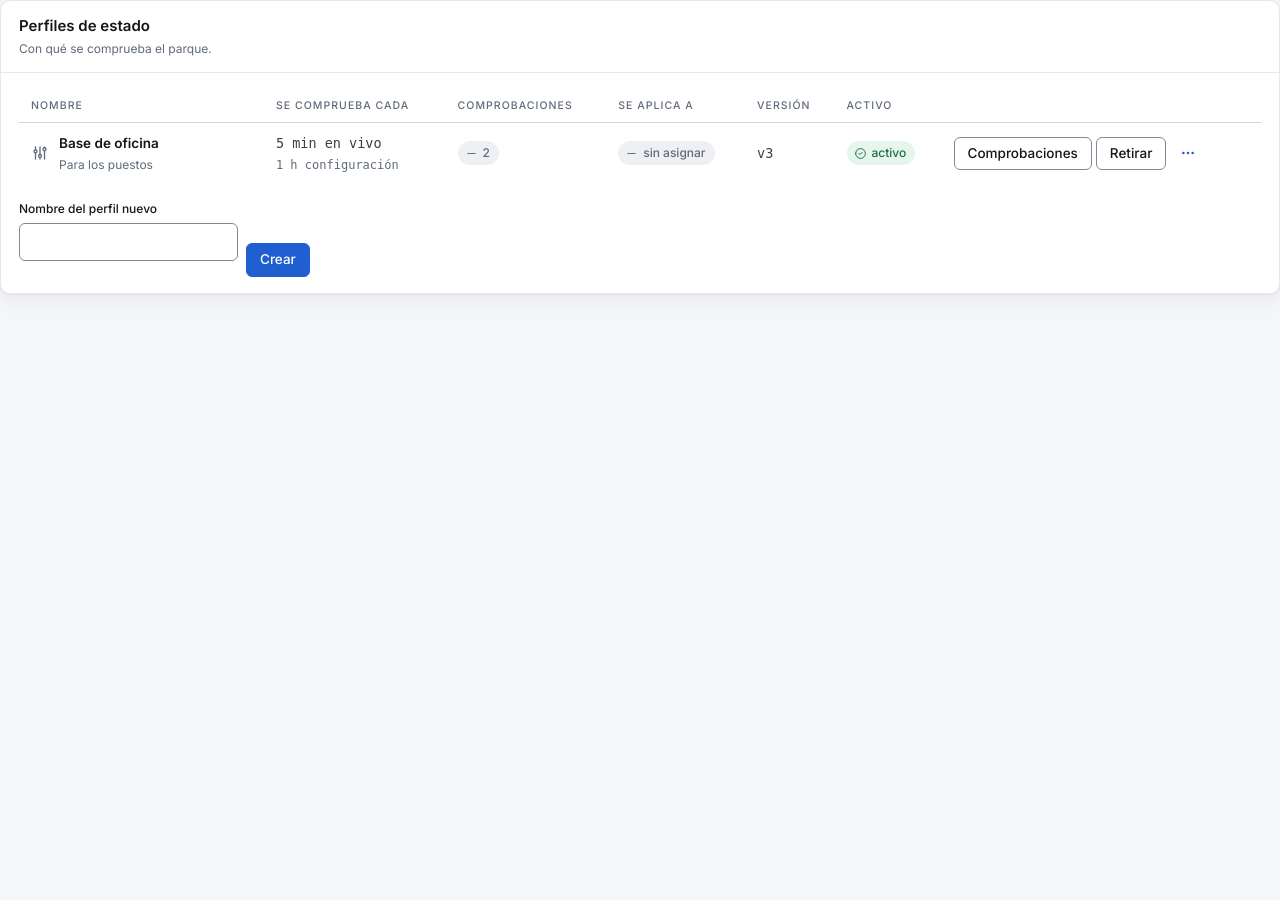
Test: the profile list, in Spanish › asks before deleting, naming what it costs
Expected: the text "Base de oficina" is shown, [59, 135, 159, 151]
Click the button named "Más acciones para Base de oficina". click: point(1188, 153)
box: [1170, 135, 1206, 171]
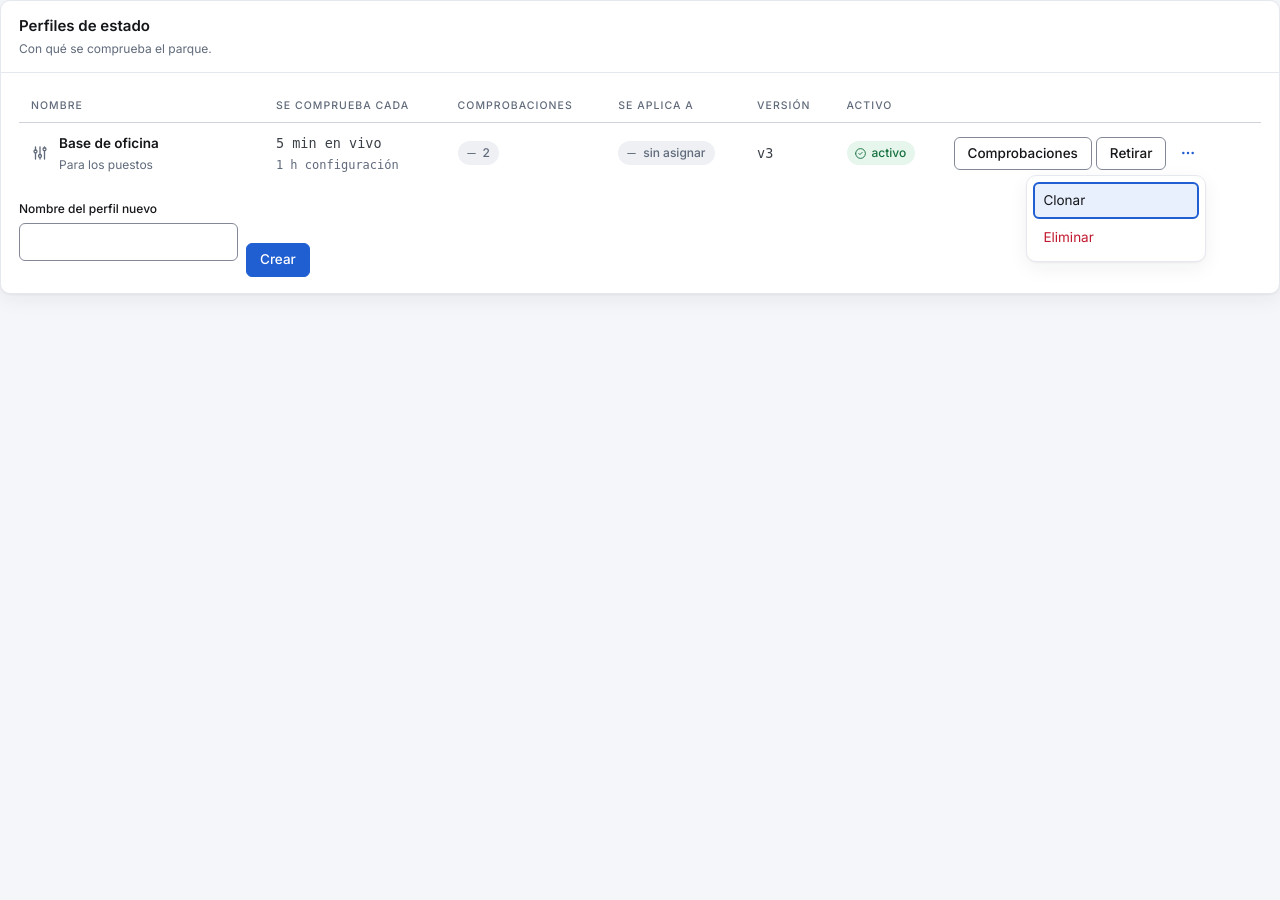
Click the menu item "Eliminar". click: point(1116, 237)
box: [1033, 219, 1199, 255]
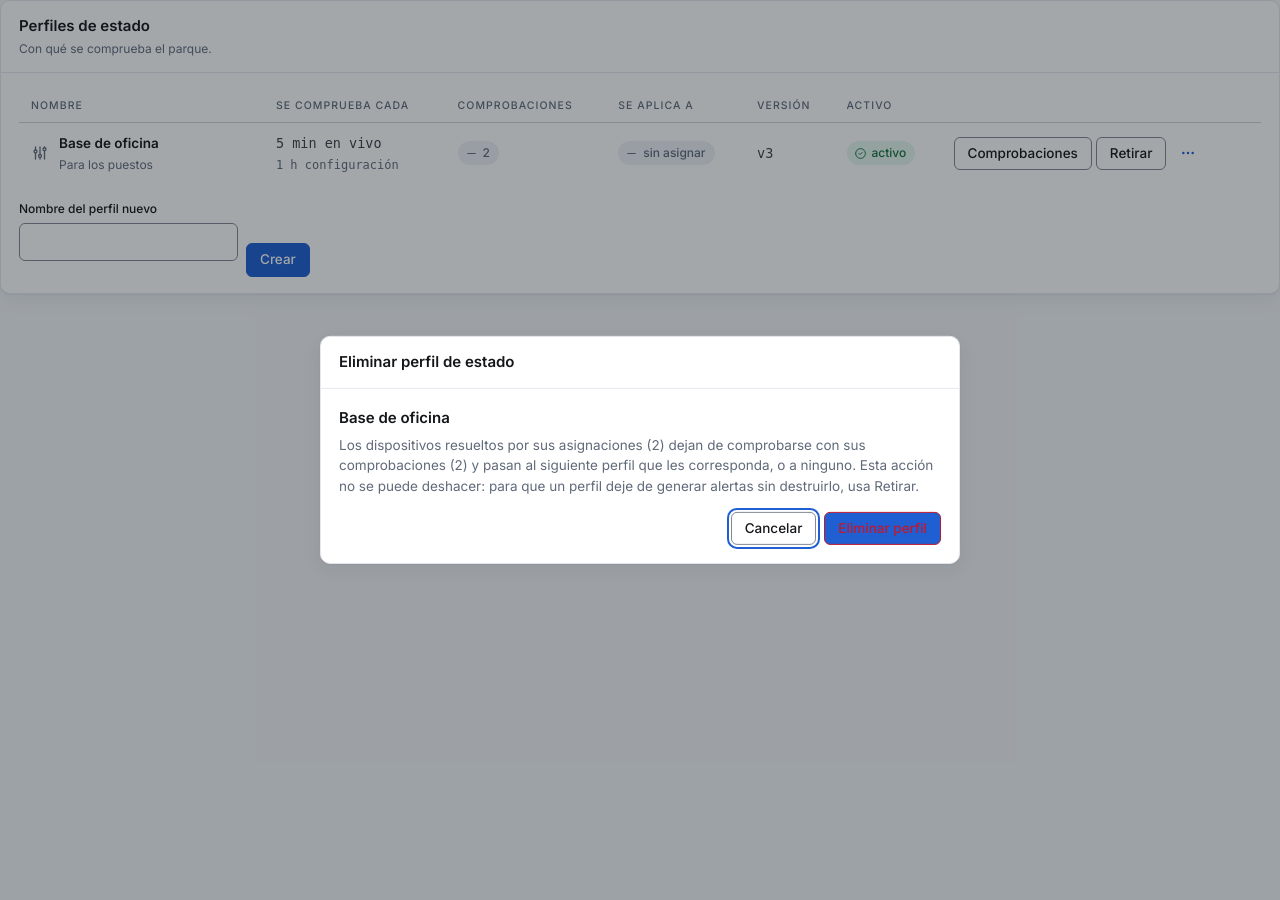
Expected: the dialog "Eliminar perfil de estado" shows "Los dispositivos resueltos por sus asignaciones (2) dejan de comprobarse con sus comprobaciones (2)", [339, 437, 933, 493]
Expected: the dialog "Eliminar perfil de estado" shows "Esta acción no se puede deshacer", [339, 437, 933, 493]
Expected: the button "Eliminar perfil" is shown, [824, 512, 941, 545]
